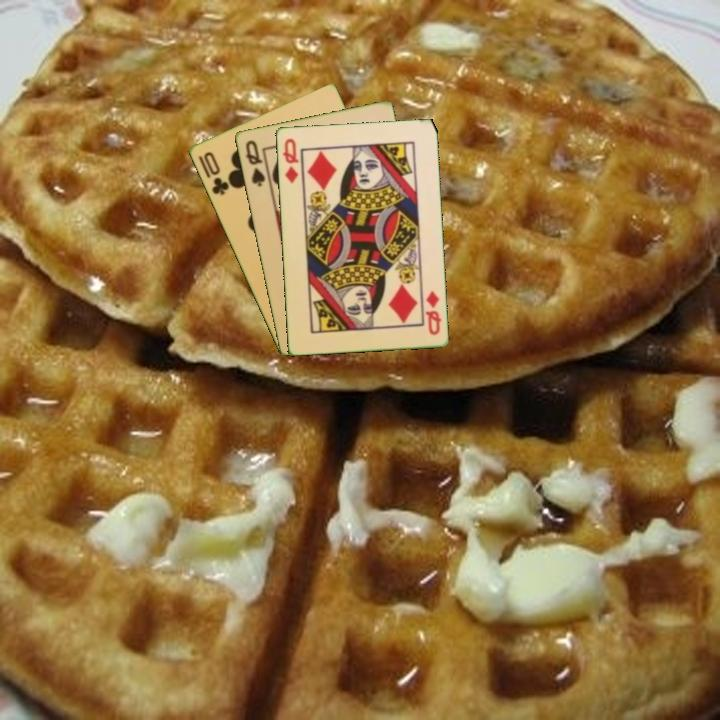10c: (199, 148, 232, 198)
Qd: (279, 134, 301, 186), (422, 287, 444, 338)
Qs: (242, 136, 268, 189)
